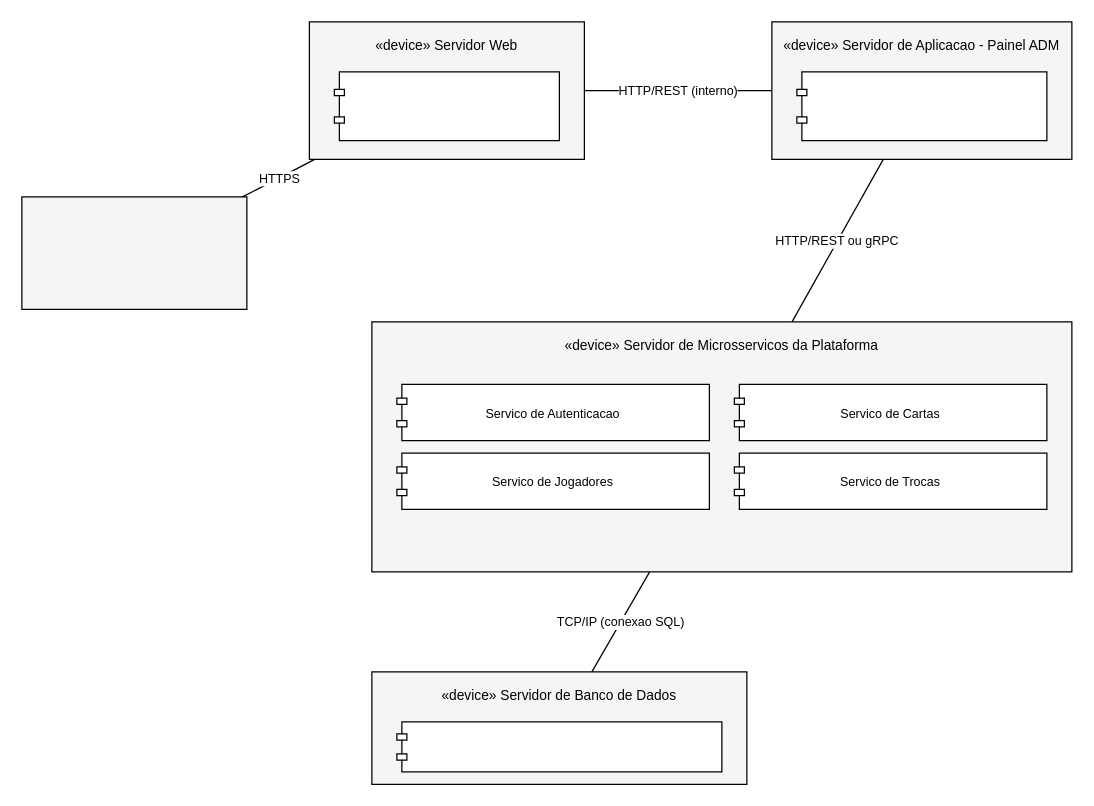
The diagram is 1094 pixels wide and 806 high, and some of its shapes have lost their labels. The shapes that lost their labels are listed below. From the top down, each one's centre as x and y in pixels, then its label:
[446,106]: Interface Web - Painel de Administracao
[921,106]: API / Backend - Painel de Administracao
[134,252]: «device» Navegador do Jogador (ADM)
[559,746]: Banco de Dados (SQL)
